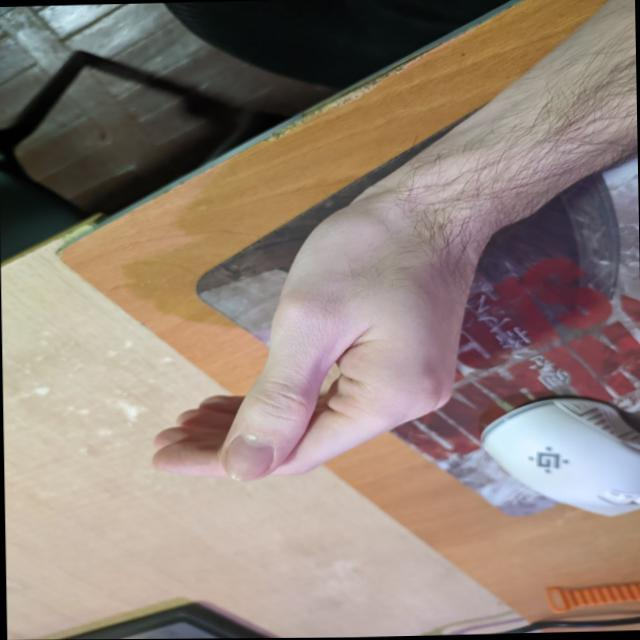f: (113, 223, 488, 513)
